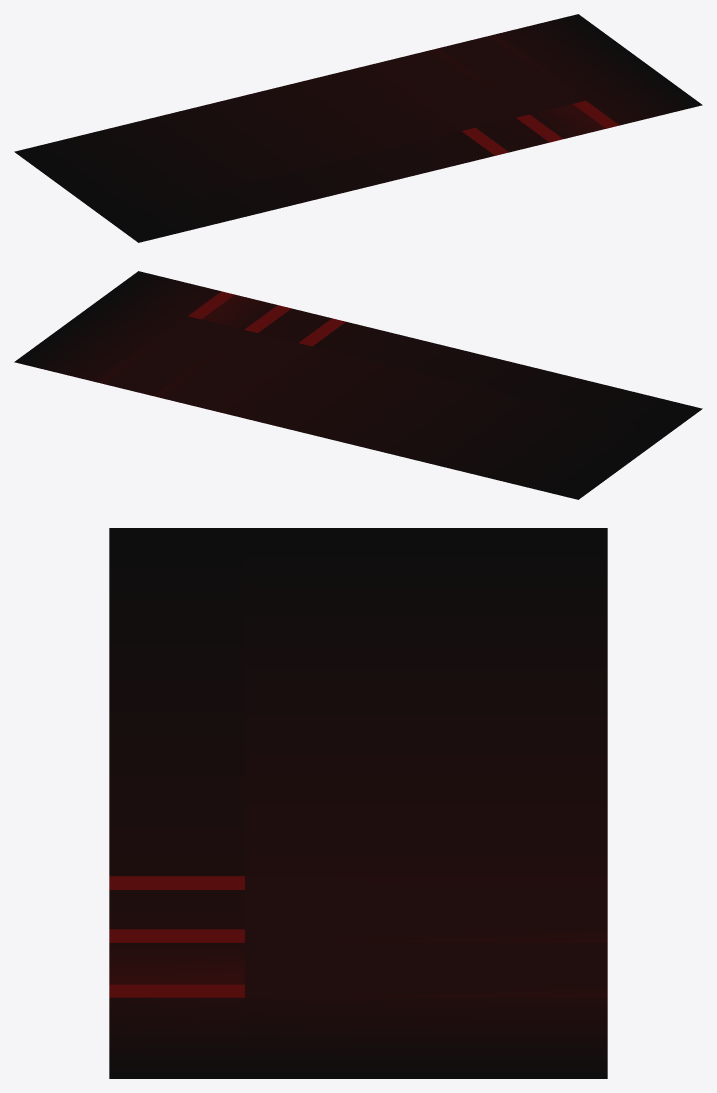
3 renders of one model, top to bottom at view 1: azimuth 30°, elevation 25°; view 2: azimuth 150°, elevation 25°; view 3: azimuth 270°, elevation 25°, orthographic. The views are drawn at different scales.
Parts seen in each view (by area): view 1: Plane.006; view 2: Plane.006; view 3: Plane.006.
Boxes of the visible parts, x1=… form: Plane.006: x1=14, y1=14, x2=702, y2=242; Plane.006: x1=14, y1=271, x2=702, y2=499; Plane.006: x1=109, y1=528, x2=607, y2=1078.
Bounding box in the file's own units: 5016 × 13127 × 0.000162.
